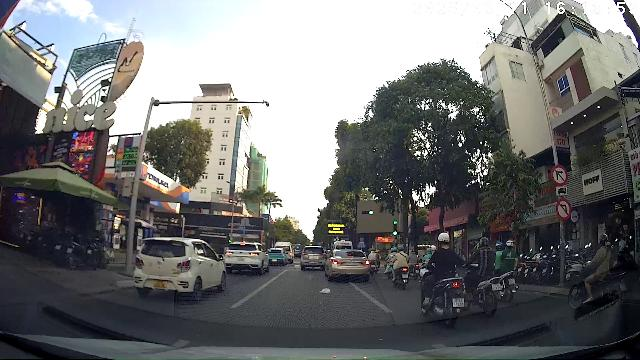123a-cam-re-trai: (556, 198, 571, 221)
123b-cam-re-phai: (551, 165, 568, 187)
